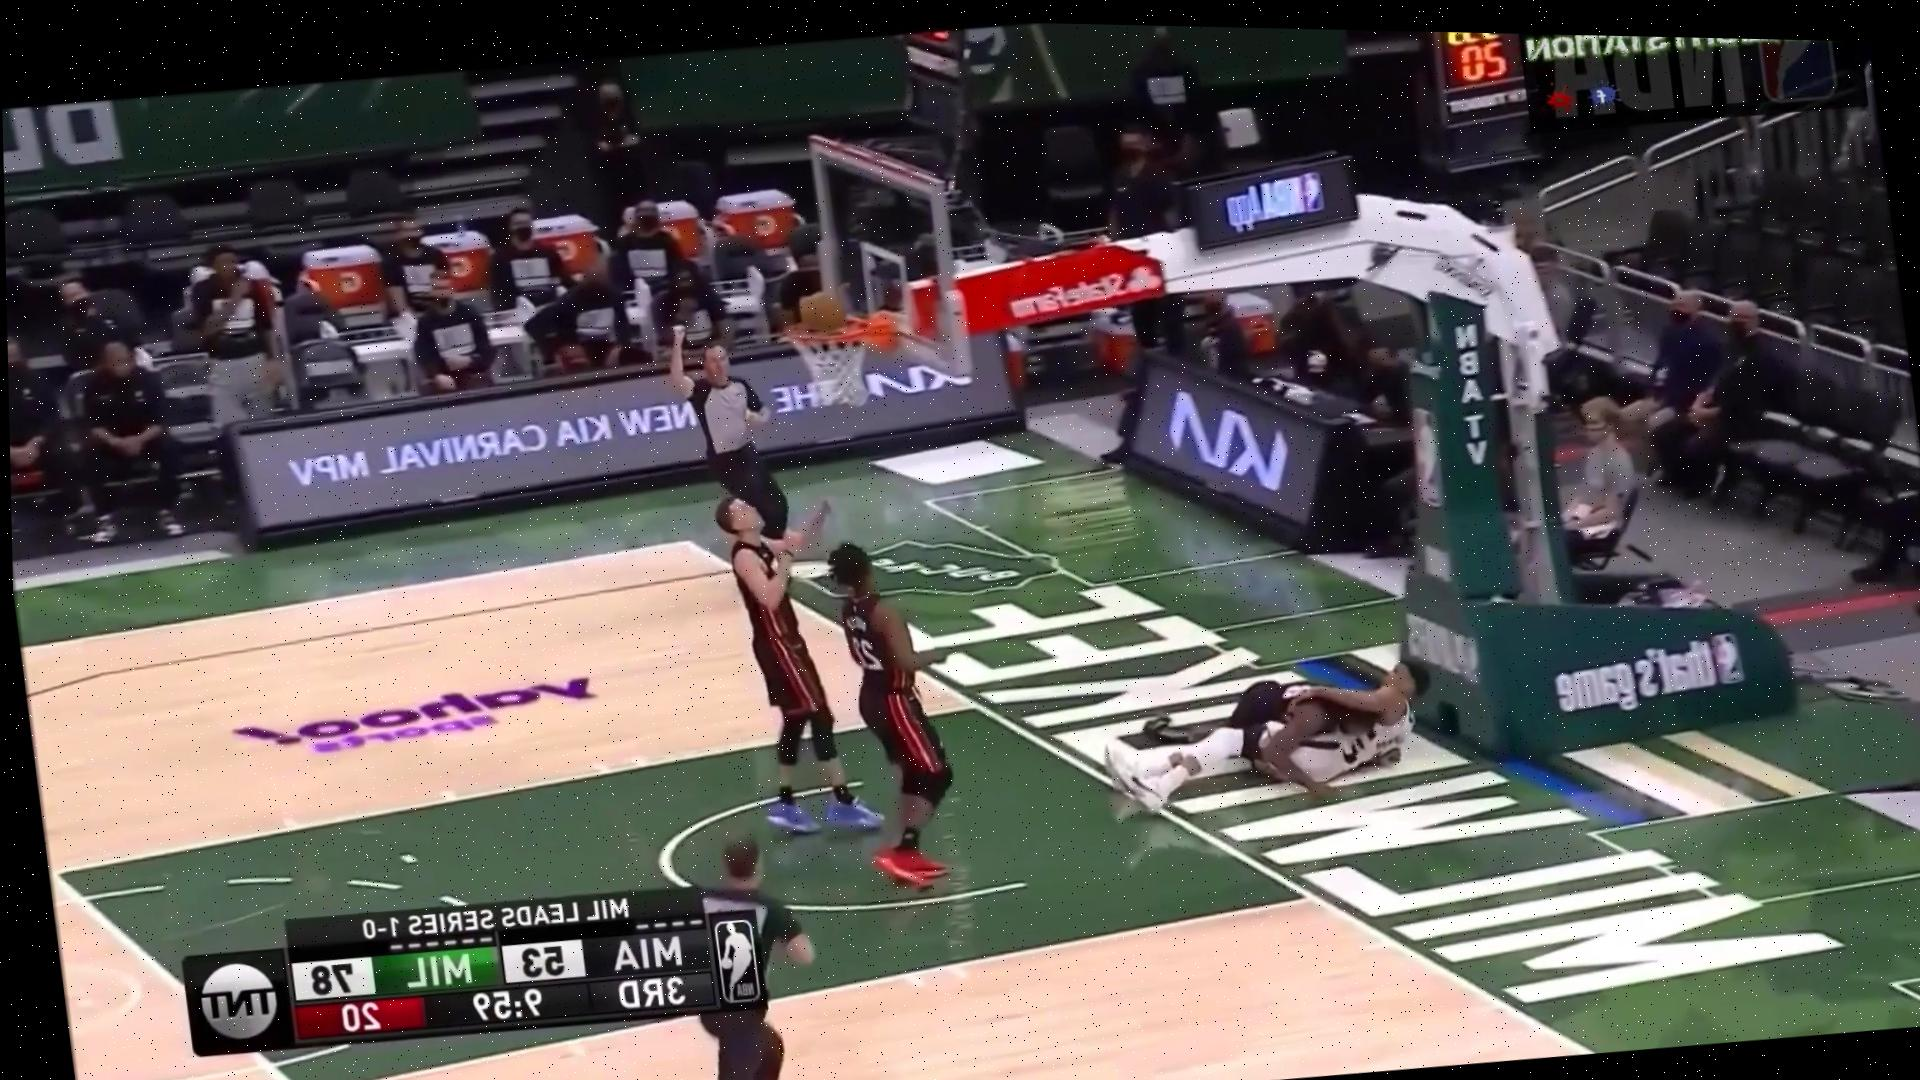foul: (1083, 624, 1450, 833)
